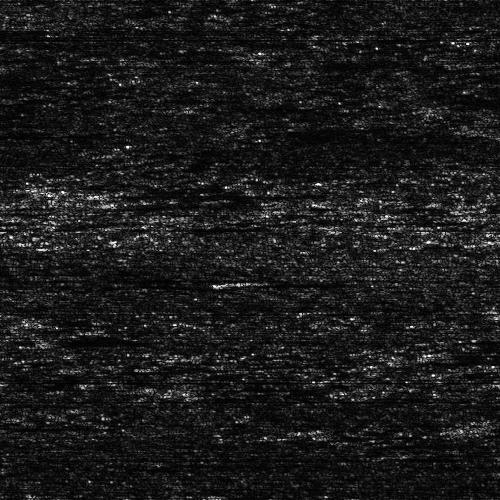object: (154, 391, 247, 400), (207, 278, 270, 283), (83, 189, 124, 196)
shadow: (104, 189, 341, 196), (0, 29, 133, 40), (201, 391, 280, 400), (239, 278, 320, 283)
